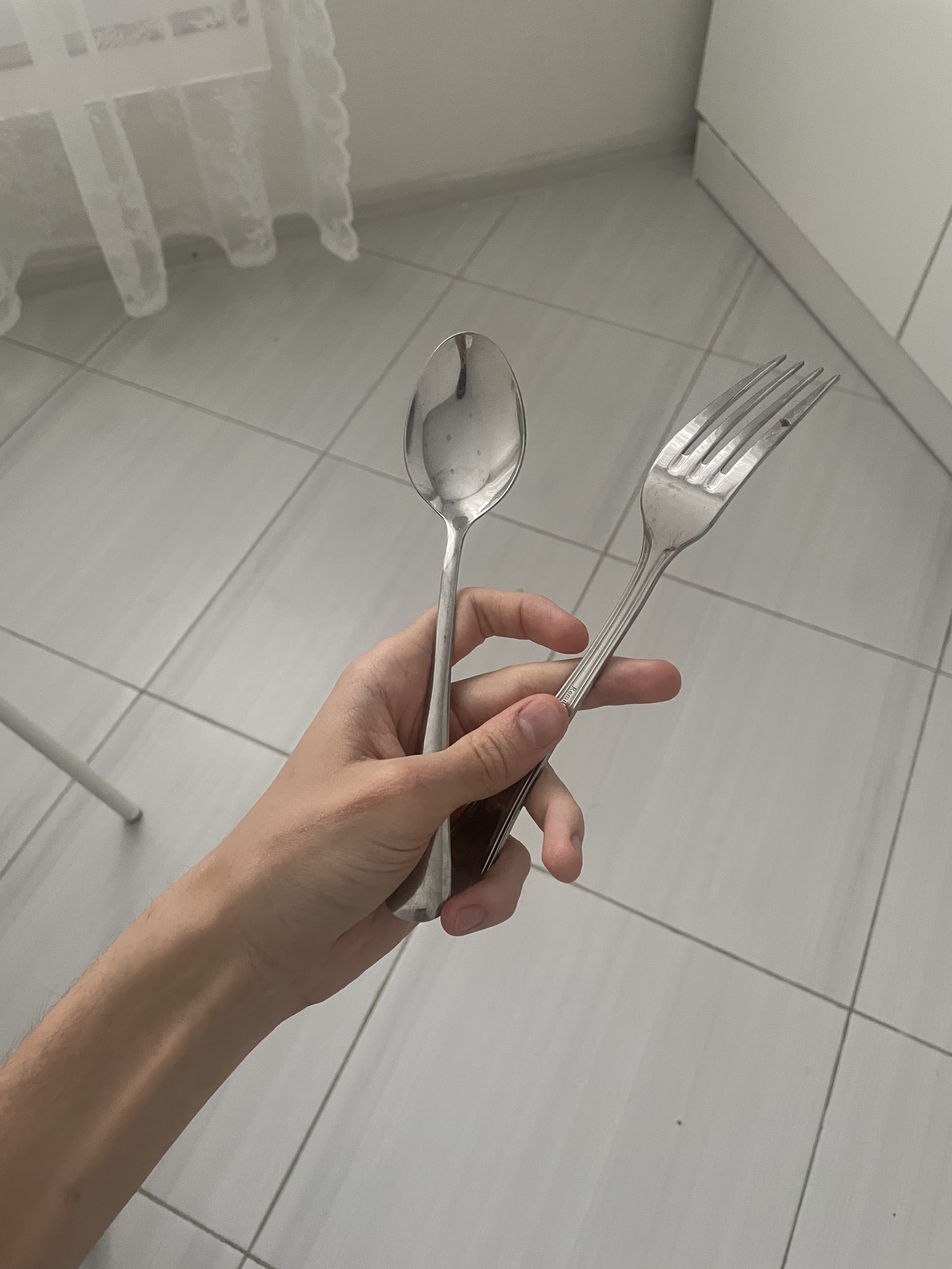spoon: (388, 333, 525, 921)
